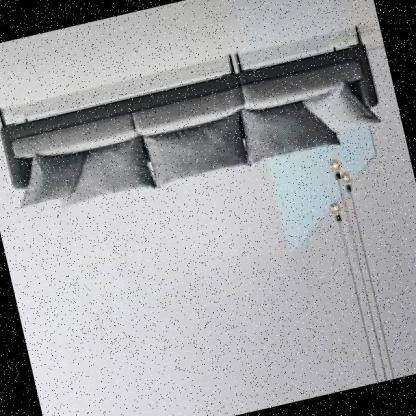Sofa: (0, 14, 397, 235)
